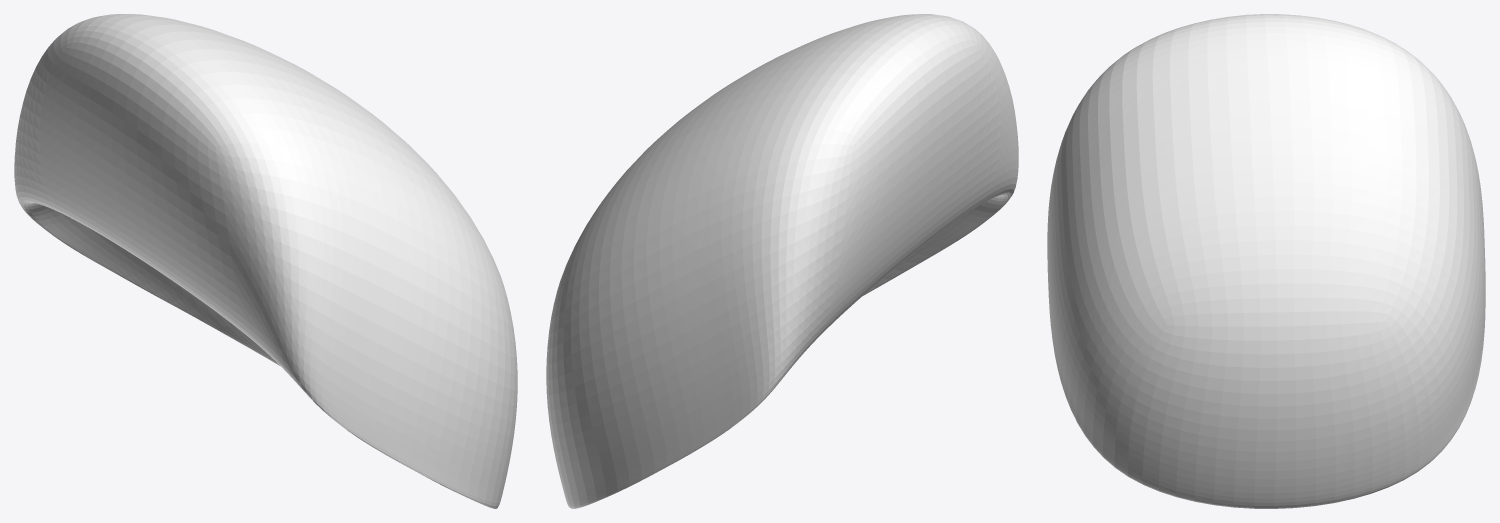
Rendered from wingmould_R.obj.
3 views of the same model, side by side, from view 1: azimuth 30°, elevation 25°; view 2: azimuth 150°, elevation 25°; view 3: azimuth 270°, elevation 25° (orthographic). The views are drawn at different scales.
Parts seen in each view (by area): view 1: Sphere.003; view 2: Sphere.003; view 3: Sphere.003.
Part boxes in pixels (left/top/right/bottom): Sphere.003: left=14, top=14, right=517, bottom=508; Sphere.003: left=546, top=14, right=1018, bottom=508; Sphere.003: left=1047, top=14, right=1485, bottom=508.
Size of the model in its own units: 1.12 by 1.51 by 1.55.
